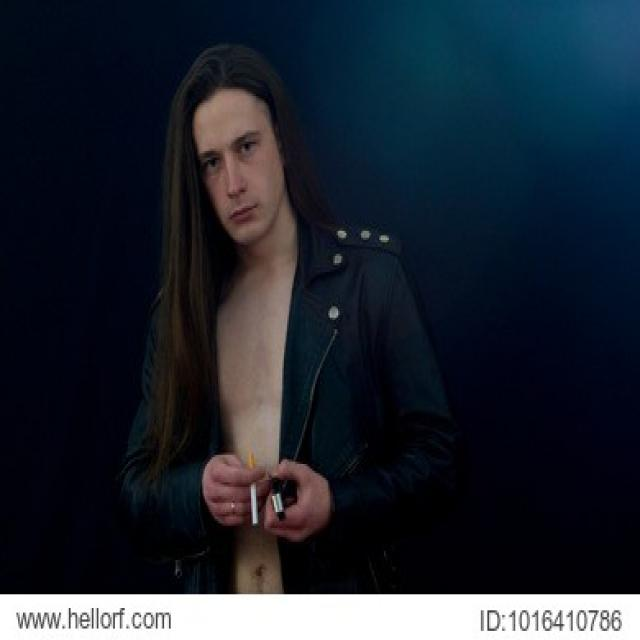smoke: (243, 457, 264, 533)
